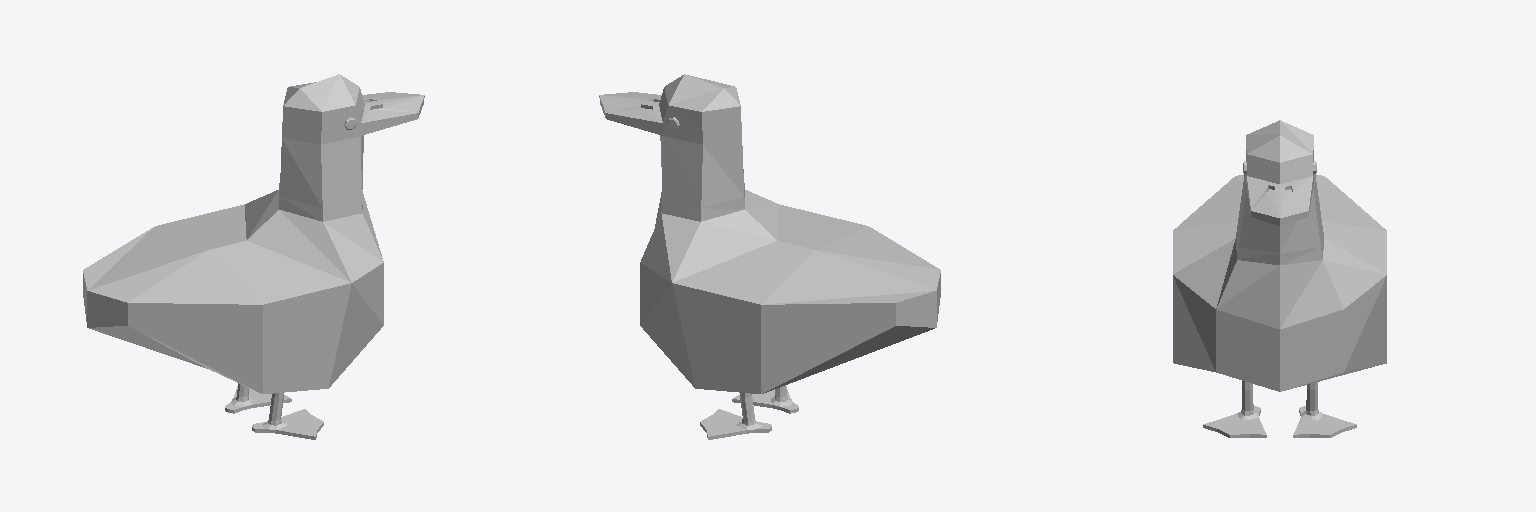
File: duck.obj
The picture shows the model from 3 angles: view 1: azimuth 30°, elevation 25°; view 2: azimuth 150°, elevation 25°; view 3: azimuth 270°, elevation 25°; orthographic projection.
Parts seen in each view (by area): view 1: Duck_01_Cube.045_Duck_01_Cube.045_1; view 2: Duck_01_Cube.045_Duck_01_Cube.045_1; view 3: Duck_01_Cube.045_Duck_01_Cube.045_1.
Boxes of the visible parts, box(x1,y1,x2,y2) form: Duck_01_Cube.045_Duck_01_Cube.045_1: box(83, 74, 424, 439); Duck_01_Cube.045_Duck_01_Cube.045_1: box(599, 74, 940, 439); Duck_01_Cube.045_Duck_01_Cube.045_1: box(1173, 120, 1386, 437).
Bounding box in the file's own units: 3.65 × 3.34 × 2.01.